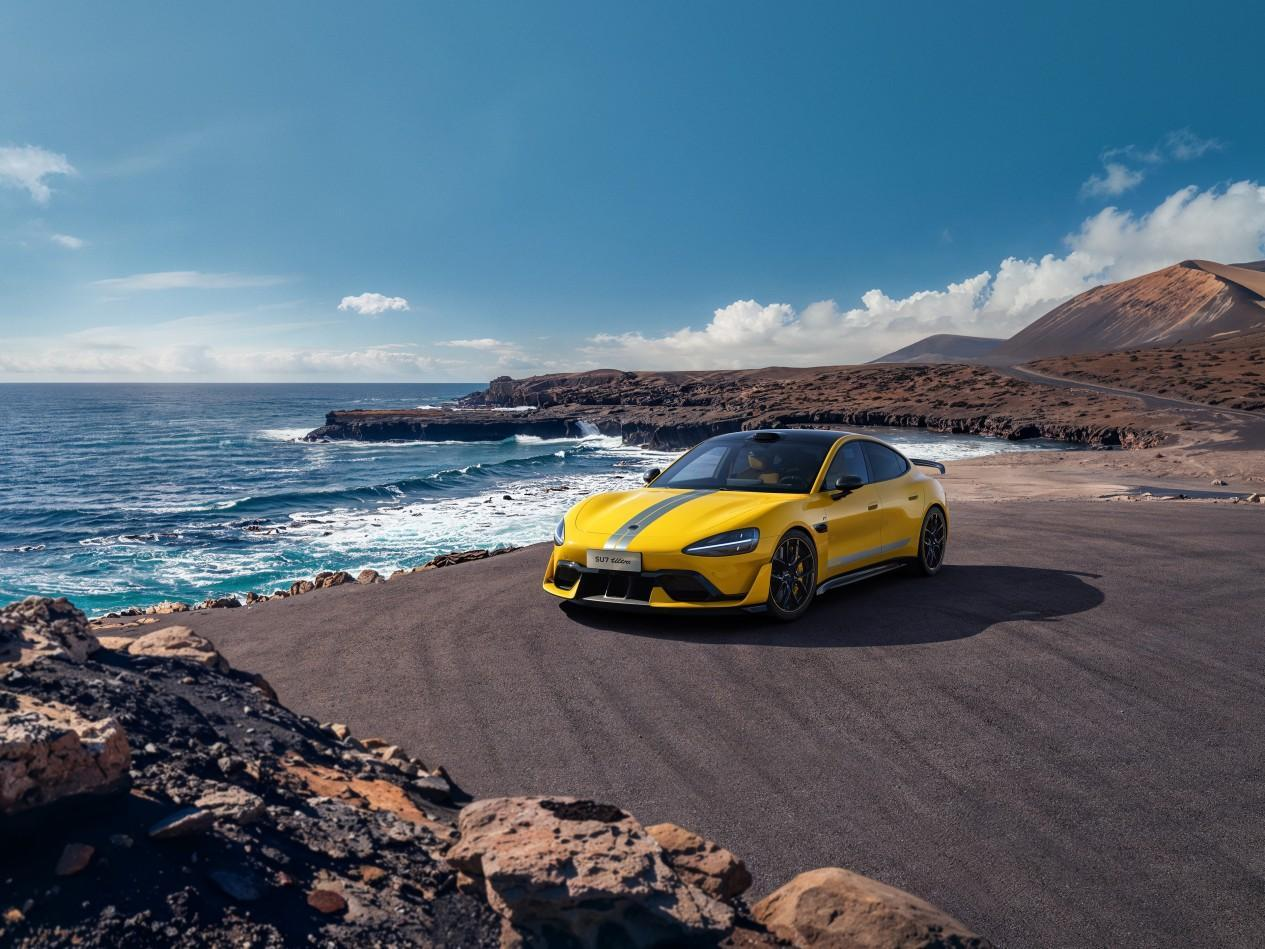su7: (545, 426, 961, 617)
